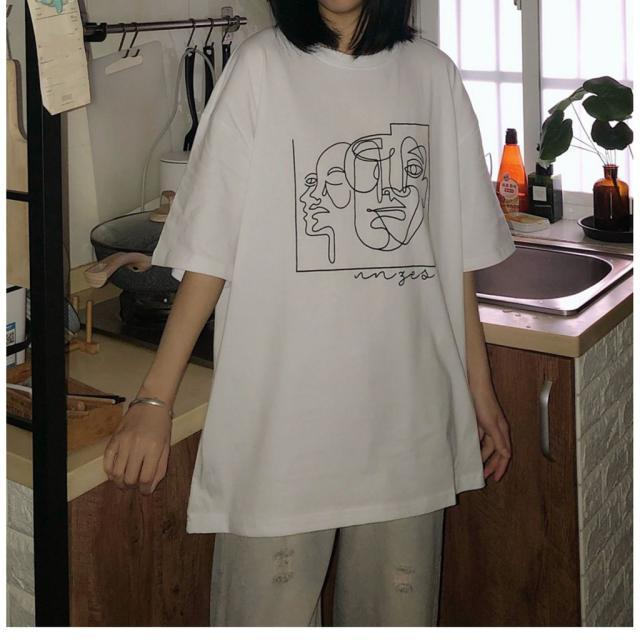Shirt: (148, 24, 520, 532)
